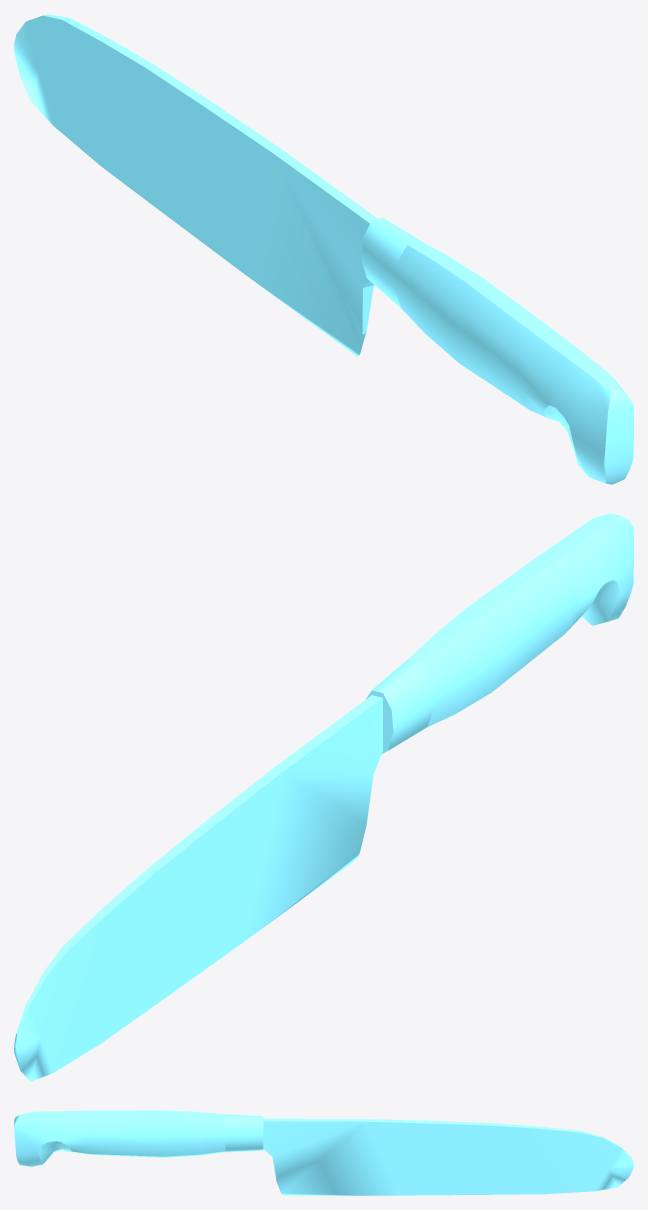
Rendered from cknife2.fbx.
3 renders of one model, top to bottom at view 1: azimuth 30°, elevation 25°; view 2: azimuth 150°, elevation 25°; view 3: azimuth 270°, elevation 25°, orthographic. The views are drawn at different scales.
Parts seen in each view (by area): view 1: KitchenKnife_2; view 2: KitchenKnife_2; view 3: KitchenKnife_2.
Part boxes in pixels (<box>): KitchenKnife_2: <box>14,14,633,484</box>; KitchenKnife_2: <box>14,513,633,1081</box>; KitchenKnife_2: <box>14,1110,633,1195</box>.
Bounding box in the file's own units: 1.59 × 4.65 × 31.42.
